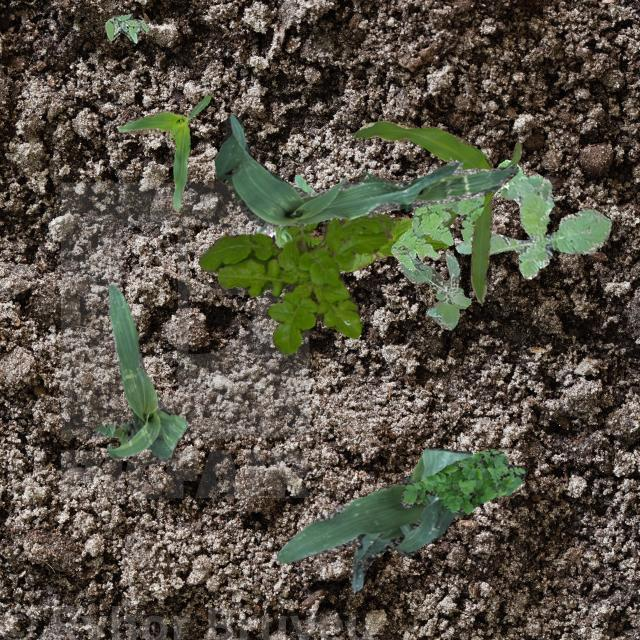crop: (213, 112, 518, 226), (354, 120, 520, 304), (276, 446, 472, 592), (95, 282, 186, 460), (116, 94, 210, 210), (304, 216, 448, 270), (252, 174, 310, 248)
weed: (198, 212, 394, 354), (454, 158, 610, 278), (400, 448, 526, 514), (389, 194, 484, 270), (399, 250, 469, 328), (104, 13, 148, 42)
